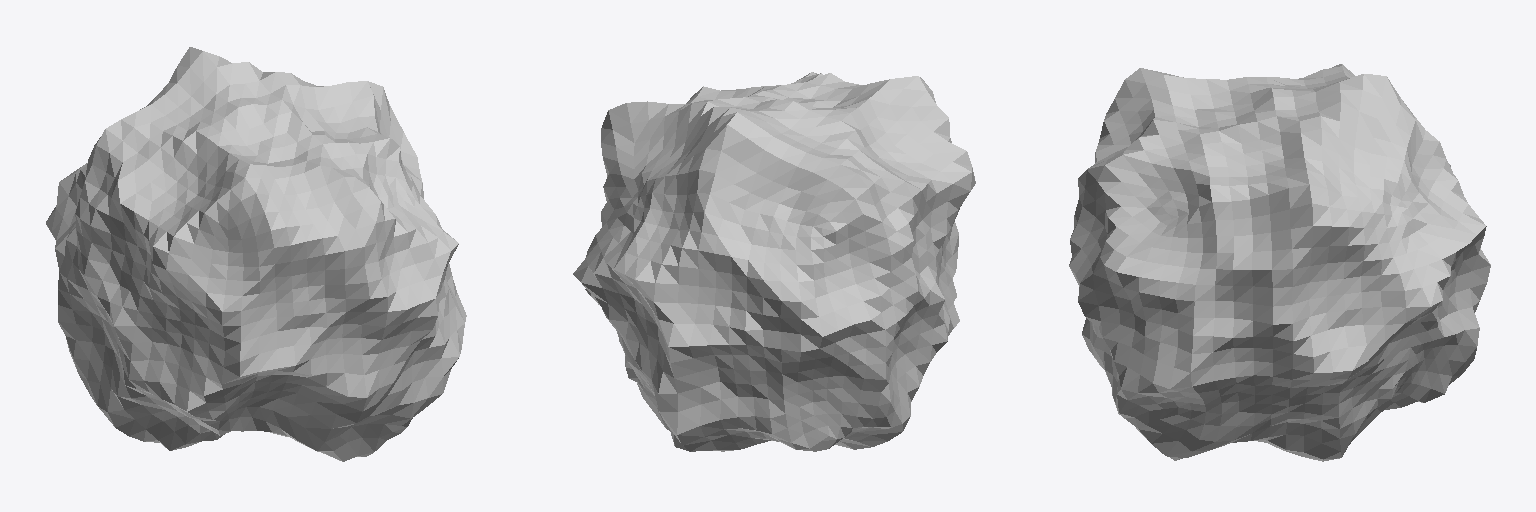
File: Boulder.obj
3 views of the same model, side by side, from view 1: azimuth 30°, elevation 25°; view 2: azimuth 150°, elevation 25°; view 3: azimuth 270°, elevation 25° (orthographic).
Visible parts, largest first — view 1: Boulder_rock.003; view 2: Boulder_rock.003; view 3: Boulder_rock.003.
Part boxes in pixels (bbox=[...]): Boulder_rock.003: bbox=[46, 47, 466, 461]; Boulder_rock.003: bbox=[573, 72, 975, 451]; Boulder_rock.003: bbox=[1069, 64, 1490, 461].
Size of the model in its own units: 2.65 by 2.78 by 3.